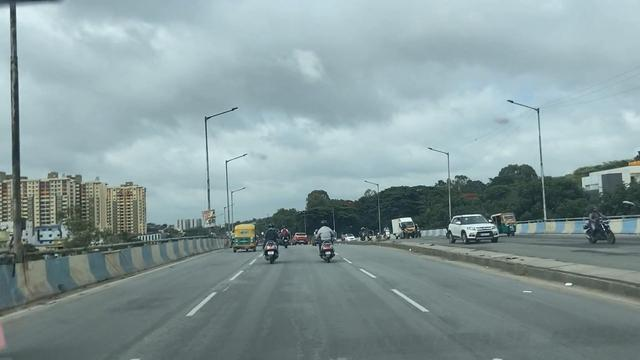LMV: (320, 221, 335, 260), (234, 224, 253, 252), (266, 224, 279, 263)
RoadDamages: (257, 291, 353, 351)
